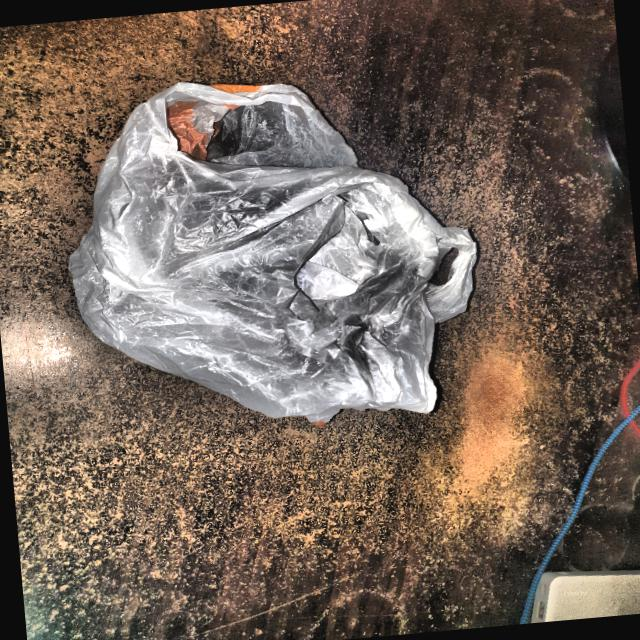plastic bag: (31, 38, 520, 460)
